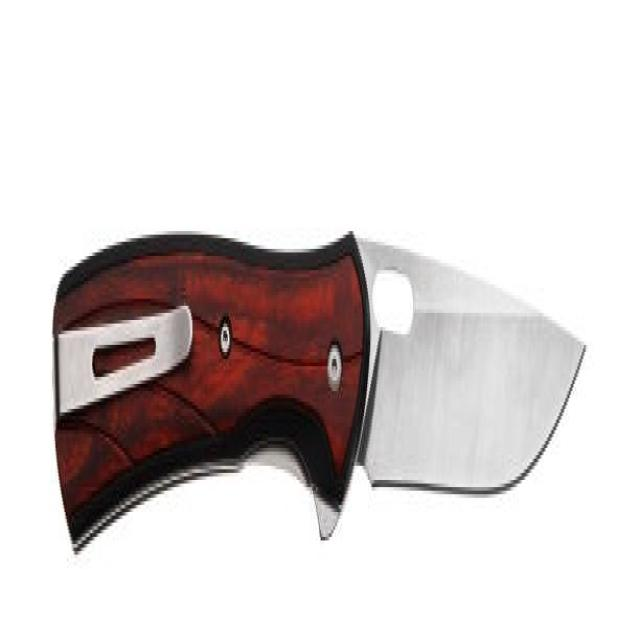knife: (36, 198, 589, 596)
